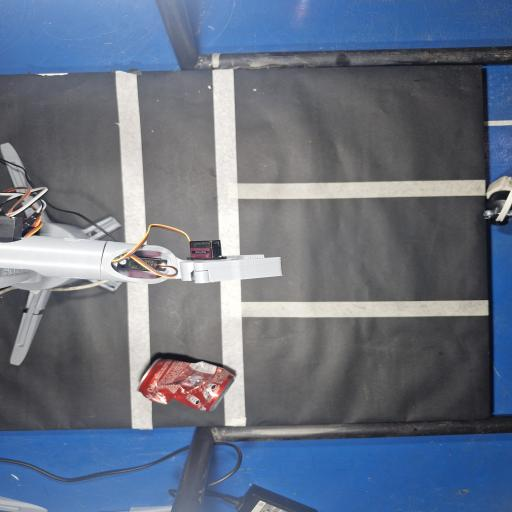lata_defectuoso: (139, 360, 234, 410)
